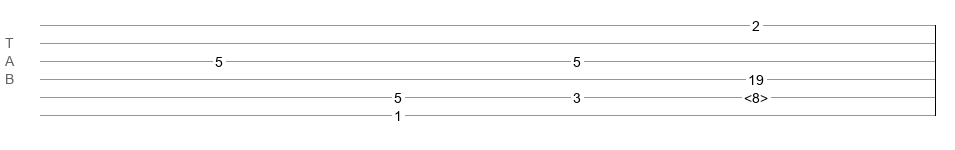1: (394, 108, 402, 118)
19: (748, 72, 764, 82)
2: (752, 18, 760, 28)
3: (573, 90, 581, 100)
5: (215, 54, 223, 64), (394, 90, 402, 100), (573, 54, 581, 64)
harmonic: (744, 90, 768, 100)
